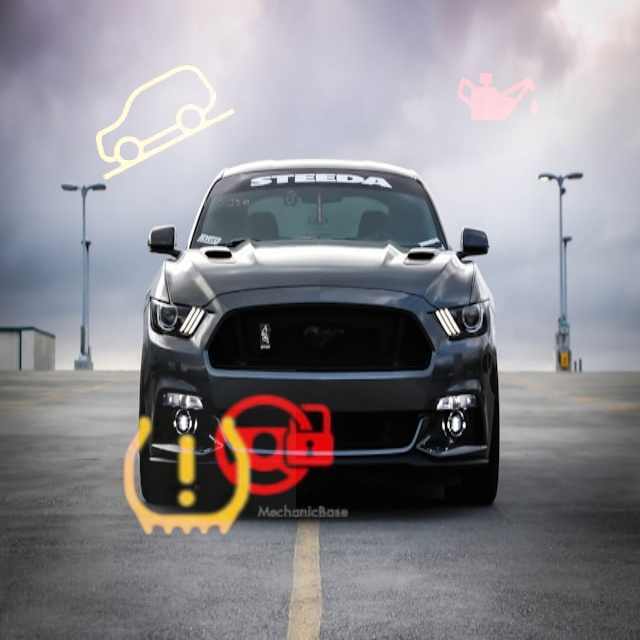symbol: (78, 369, 296, 587), (75, 34, 257, 216), (196, 367, 354, 525), (436, 30, 560, 154)
